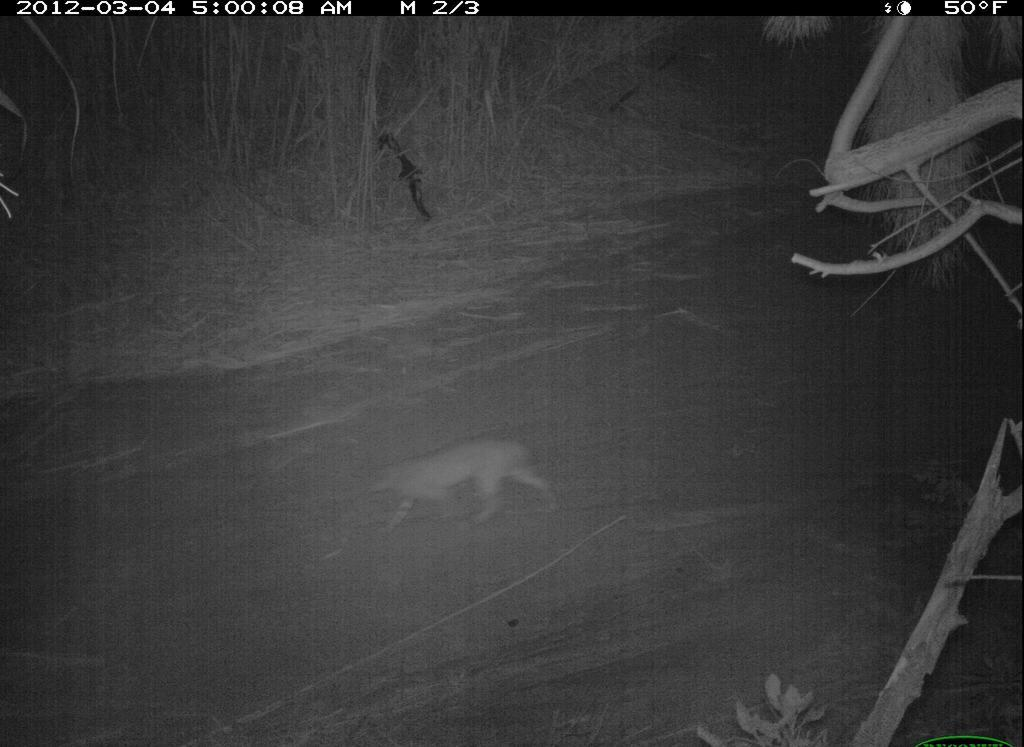bobcat: (358, 432, 573, 543)
